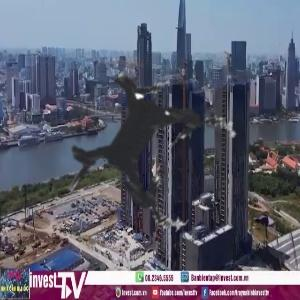drone: (7, 5, 286, 284)
